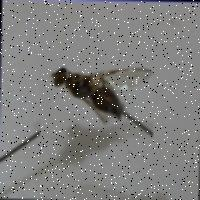Oriental-fruit-fly: (40, 58, 154, 138)
